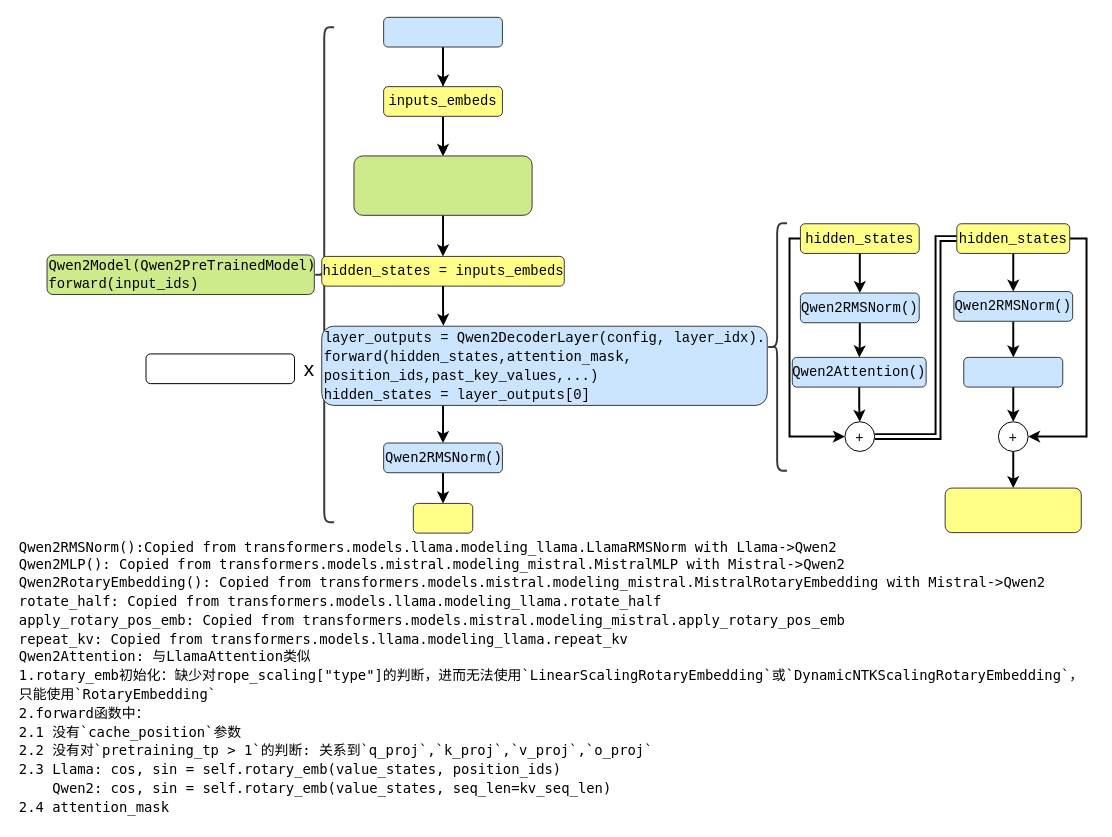
The diagram is 1112 pixels wide and 837 high, and some of its shapes have lost their labels. Here are the shapes that lost their labels. From the top down, the box of each, then its label:
(383, 16, 502, 47): nn.Embedding( )
(353, 155, 532, 215): get `position_ids` and ` attention_mask ` and `past_key_values`
(145, 353, 295, 384): num_hidden_layers
(963, 356, 1063, 387): Qwen2MLP()
(412, 502, 473, 533): return
(944, 487, 1081, 533): return (hidden_states,)
